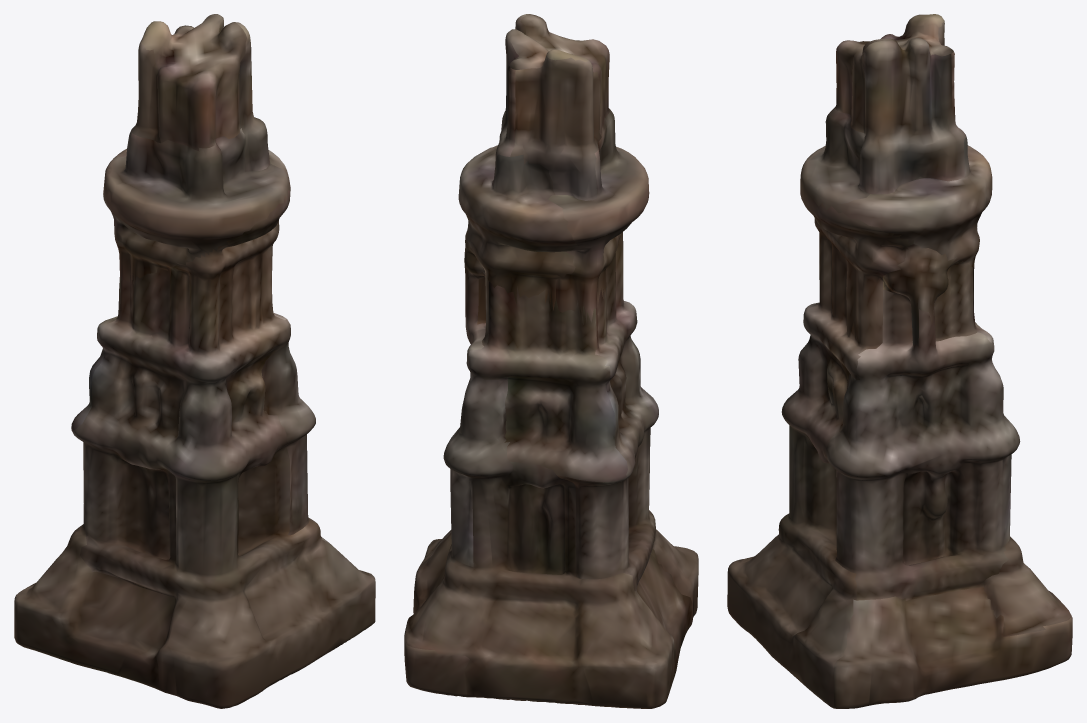
File: import-1780596306107-ruin3.web.webp.glb
3 views of the same model, side by side, from view 1: azimuth 30°, elevation 25°; view 2: azimuth 150°, elevation 25°; view 3: azimuth 270°, elevation 25° (orthographic).
Bounding box in the file's own units: 0.0897 × 0.1769 × 0.0901.
1 material, 1 textured.
